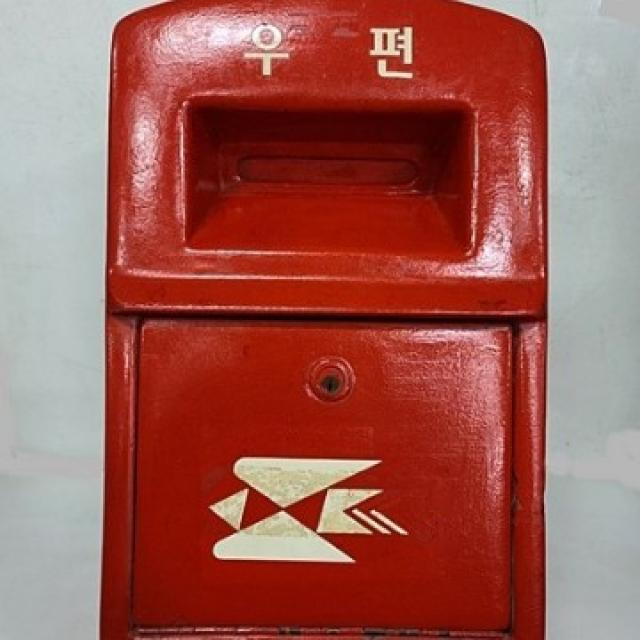Post Box: (97, 0, 551, 640)
